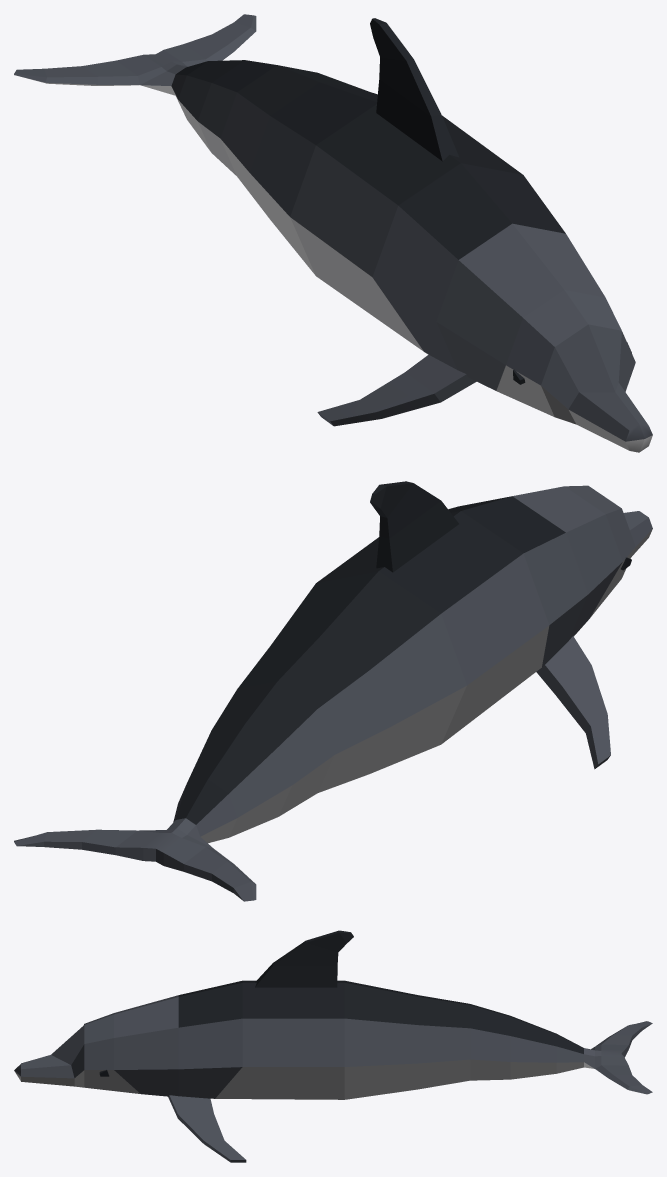
Rendered from Mesh_Dolphin.gltf.
3 views of the same model, one above another, from view 1: azimuth 30°, elevation 25°; view 2: azimuth 150°, elevation 25°; view 3: azimuth 270°, elevation 25° (orthographic). The views are drawn at different scales.
Parts seen in each view (by area): view 1: node-0; view 2: node-0; view 3: node-0.
Boxes of the visible parts, box(x1,y1,x2,y2) form: node-0: box(14, 14, 652, 452); node-0: box(14, 481, 652, 901); node-0: box(14, 930, 652, 1162).
Bounding box in the file's own units: 80.33 × 83.4 × 255.
Materials: 1 (1 with a texture image).
